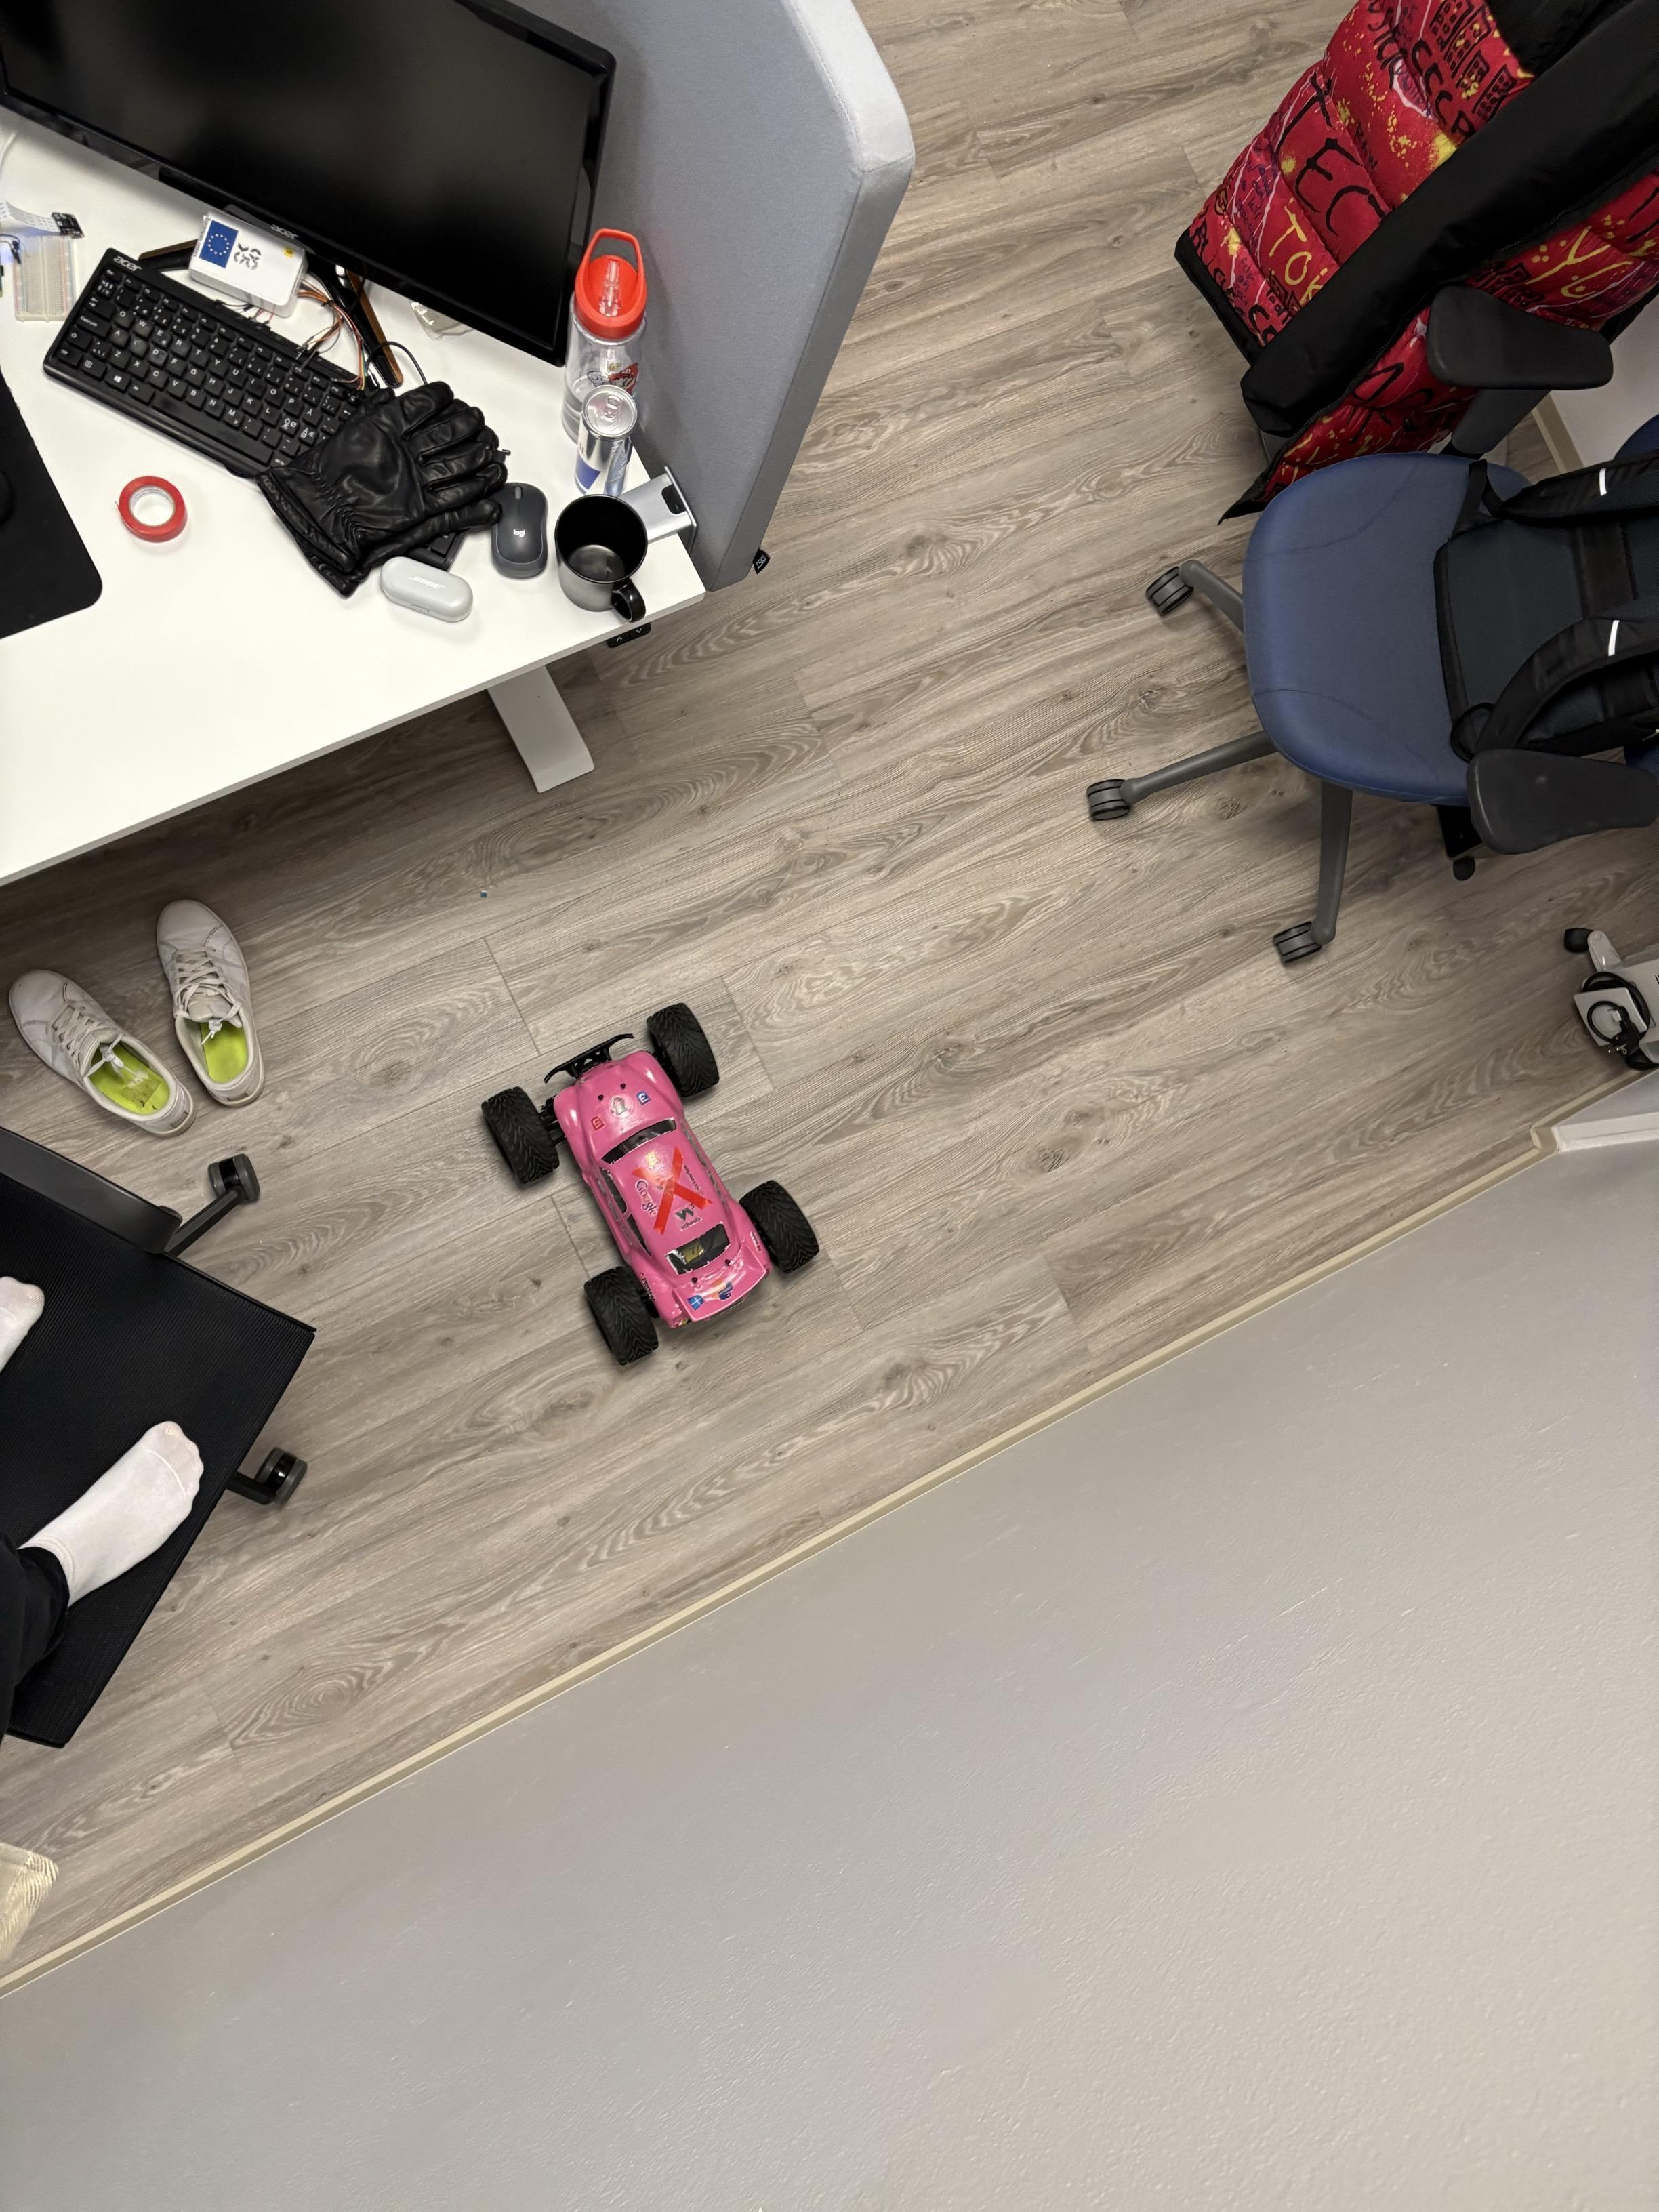Car: (410, 975, 861, 1383)
